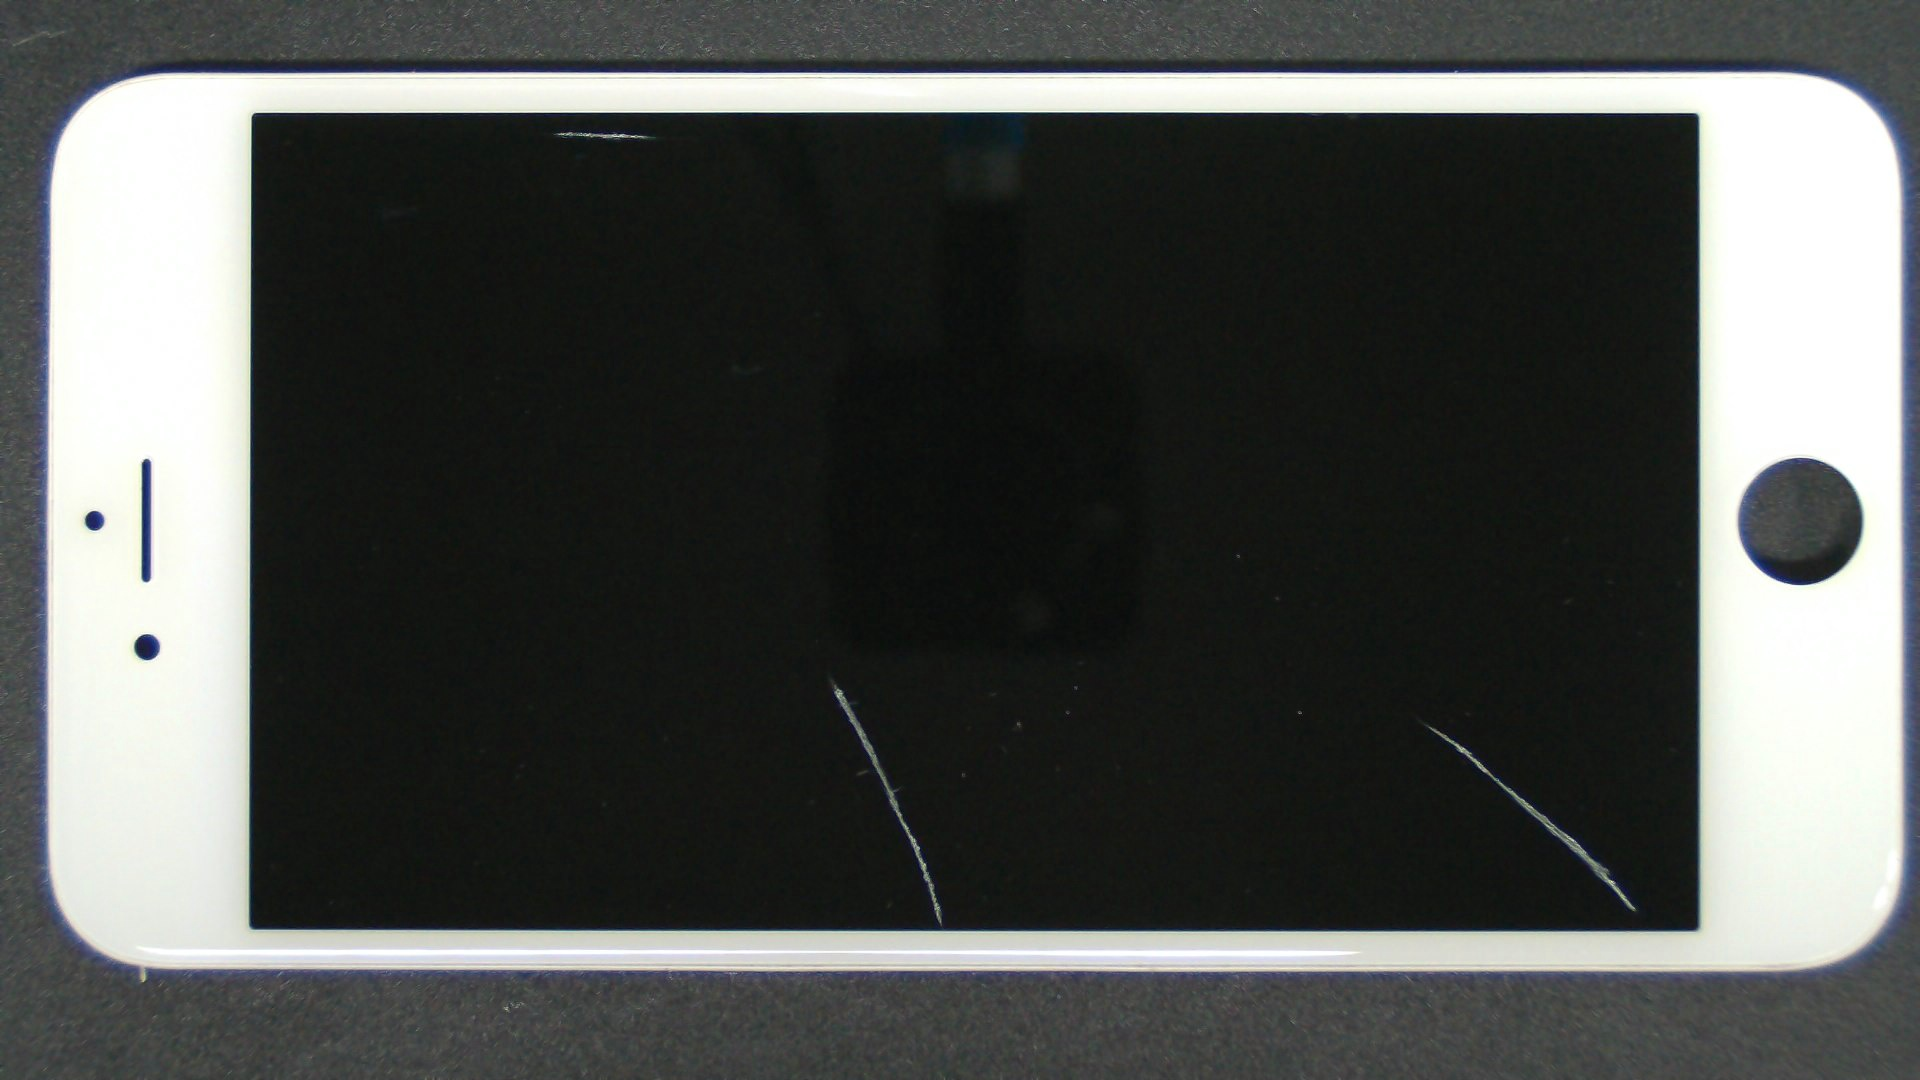oil: (712, 361, 1920, 1080), (434, 384, 1302, 1080), (414, 338, 1242, 1014), (285, 65, 853, 195)
